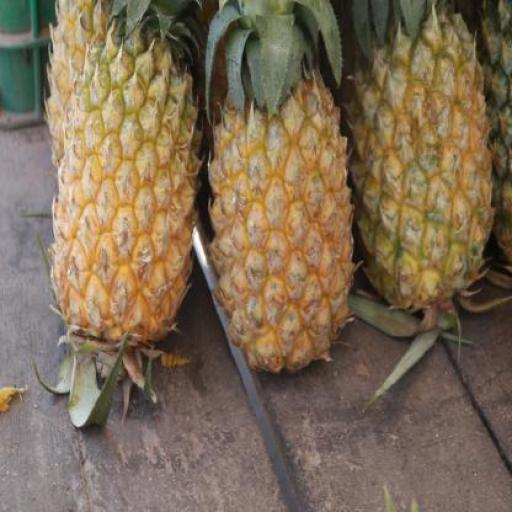------------------------------: (352, 14, 496, 307)
Pineapple - v8 v1: (56, 38, 200, 362), (208, 72, 358, 374)
